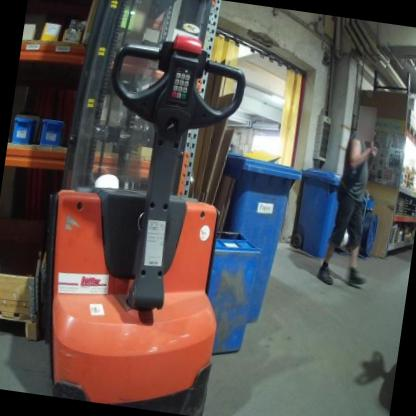pallet: (0, 306, 45, 348), (400, 123, 416, 149)
pallet_truck: (27, 0, 262, 416)
